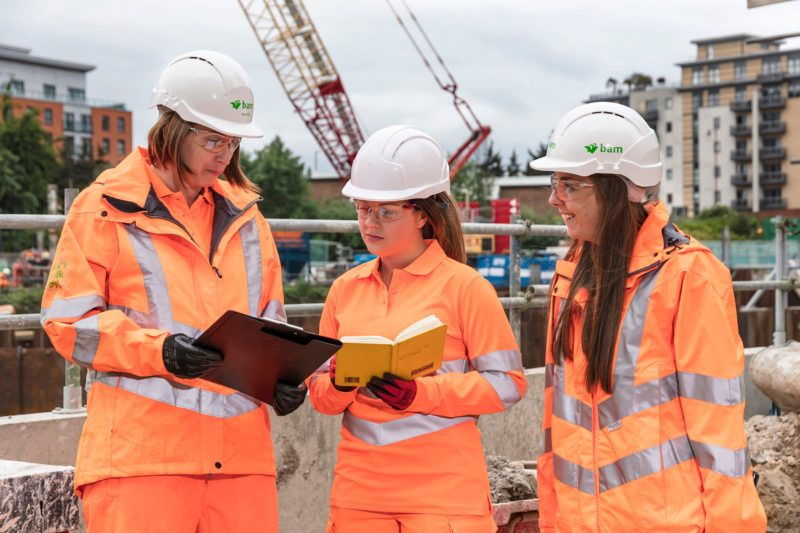Hard Hat: (530, 99, 667, 176), (148, 47, 266, 136), (341, 133, 455, 198)
High Viz: (94, 161, 276, 453), (558, 242, 712, 510), (334, 264, 492, 474)
